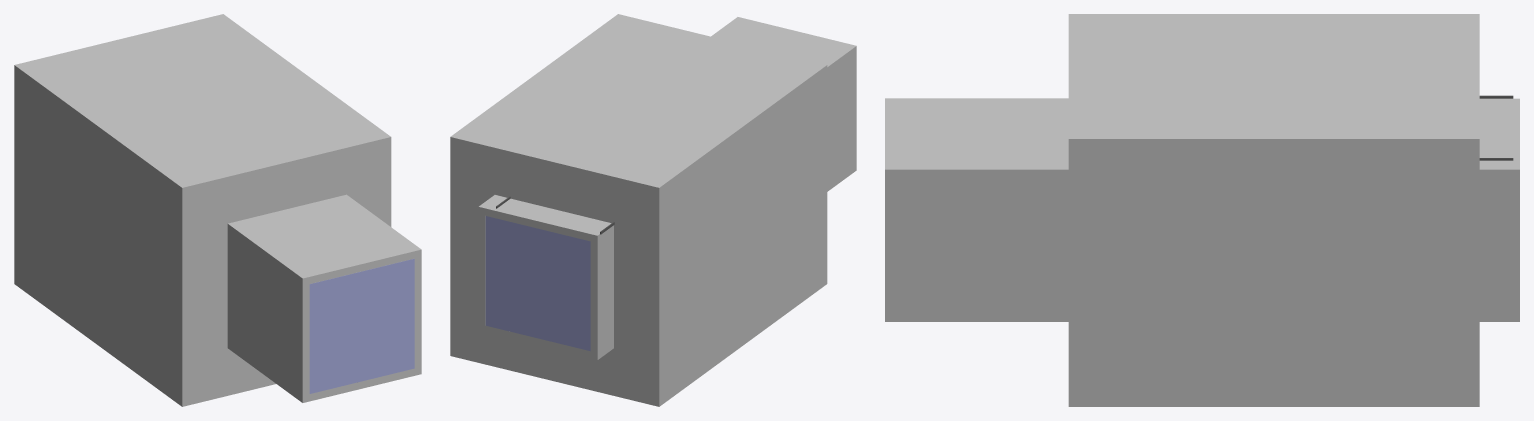
File: New_Advanced.fbx
3 renders of one model, left to right at view 1: azimuth 30°, elevation 25°; view 2: azimuth 150°, elevation 25°; view 3: azimuth 270°, elevation 25°, orthographic. The views are drawn at different scales.
Parts seen in each view (by area): view 1: Level, Entrance; view 2: Level, Exit; view 3: Level.
Part boxes in pixels (x1=…): Level: x1=14, y1=14, x2=421, y2=406; Entrance: x1=309, y1=258, x2=414, y2=393; Level: x1=450, y1=14, x2=856, y2=406; Exit: x1=485, y1=216, x2=590, y2=351; Level: x1=885, y1=14, x2=1519, y2=406.
Bounding box in the file's own units: 1291 × 1293 × 2774.
